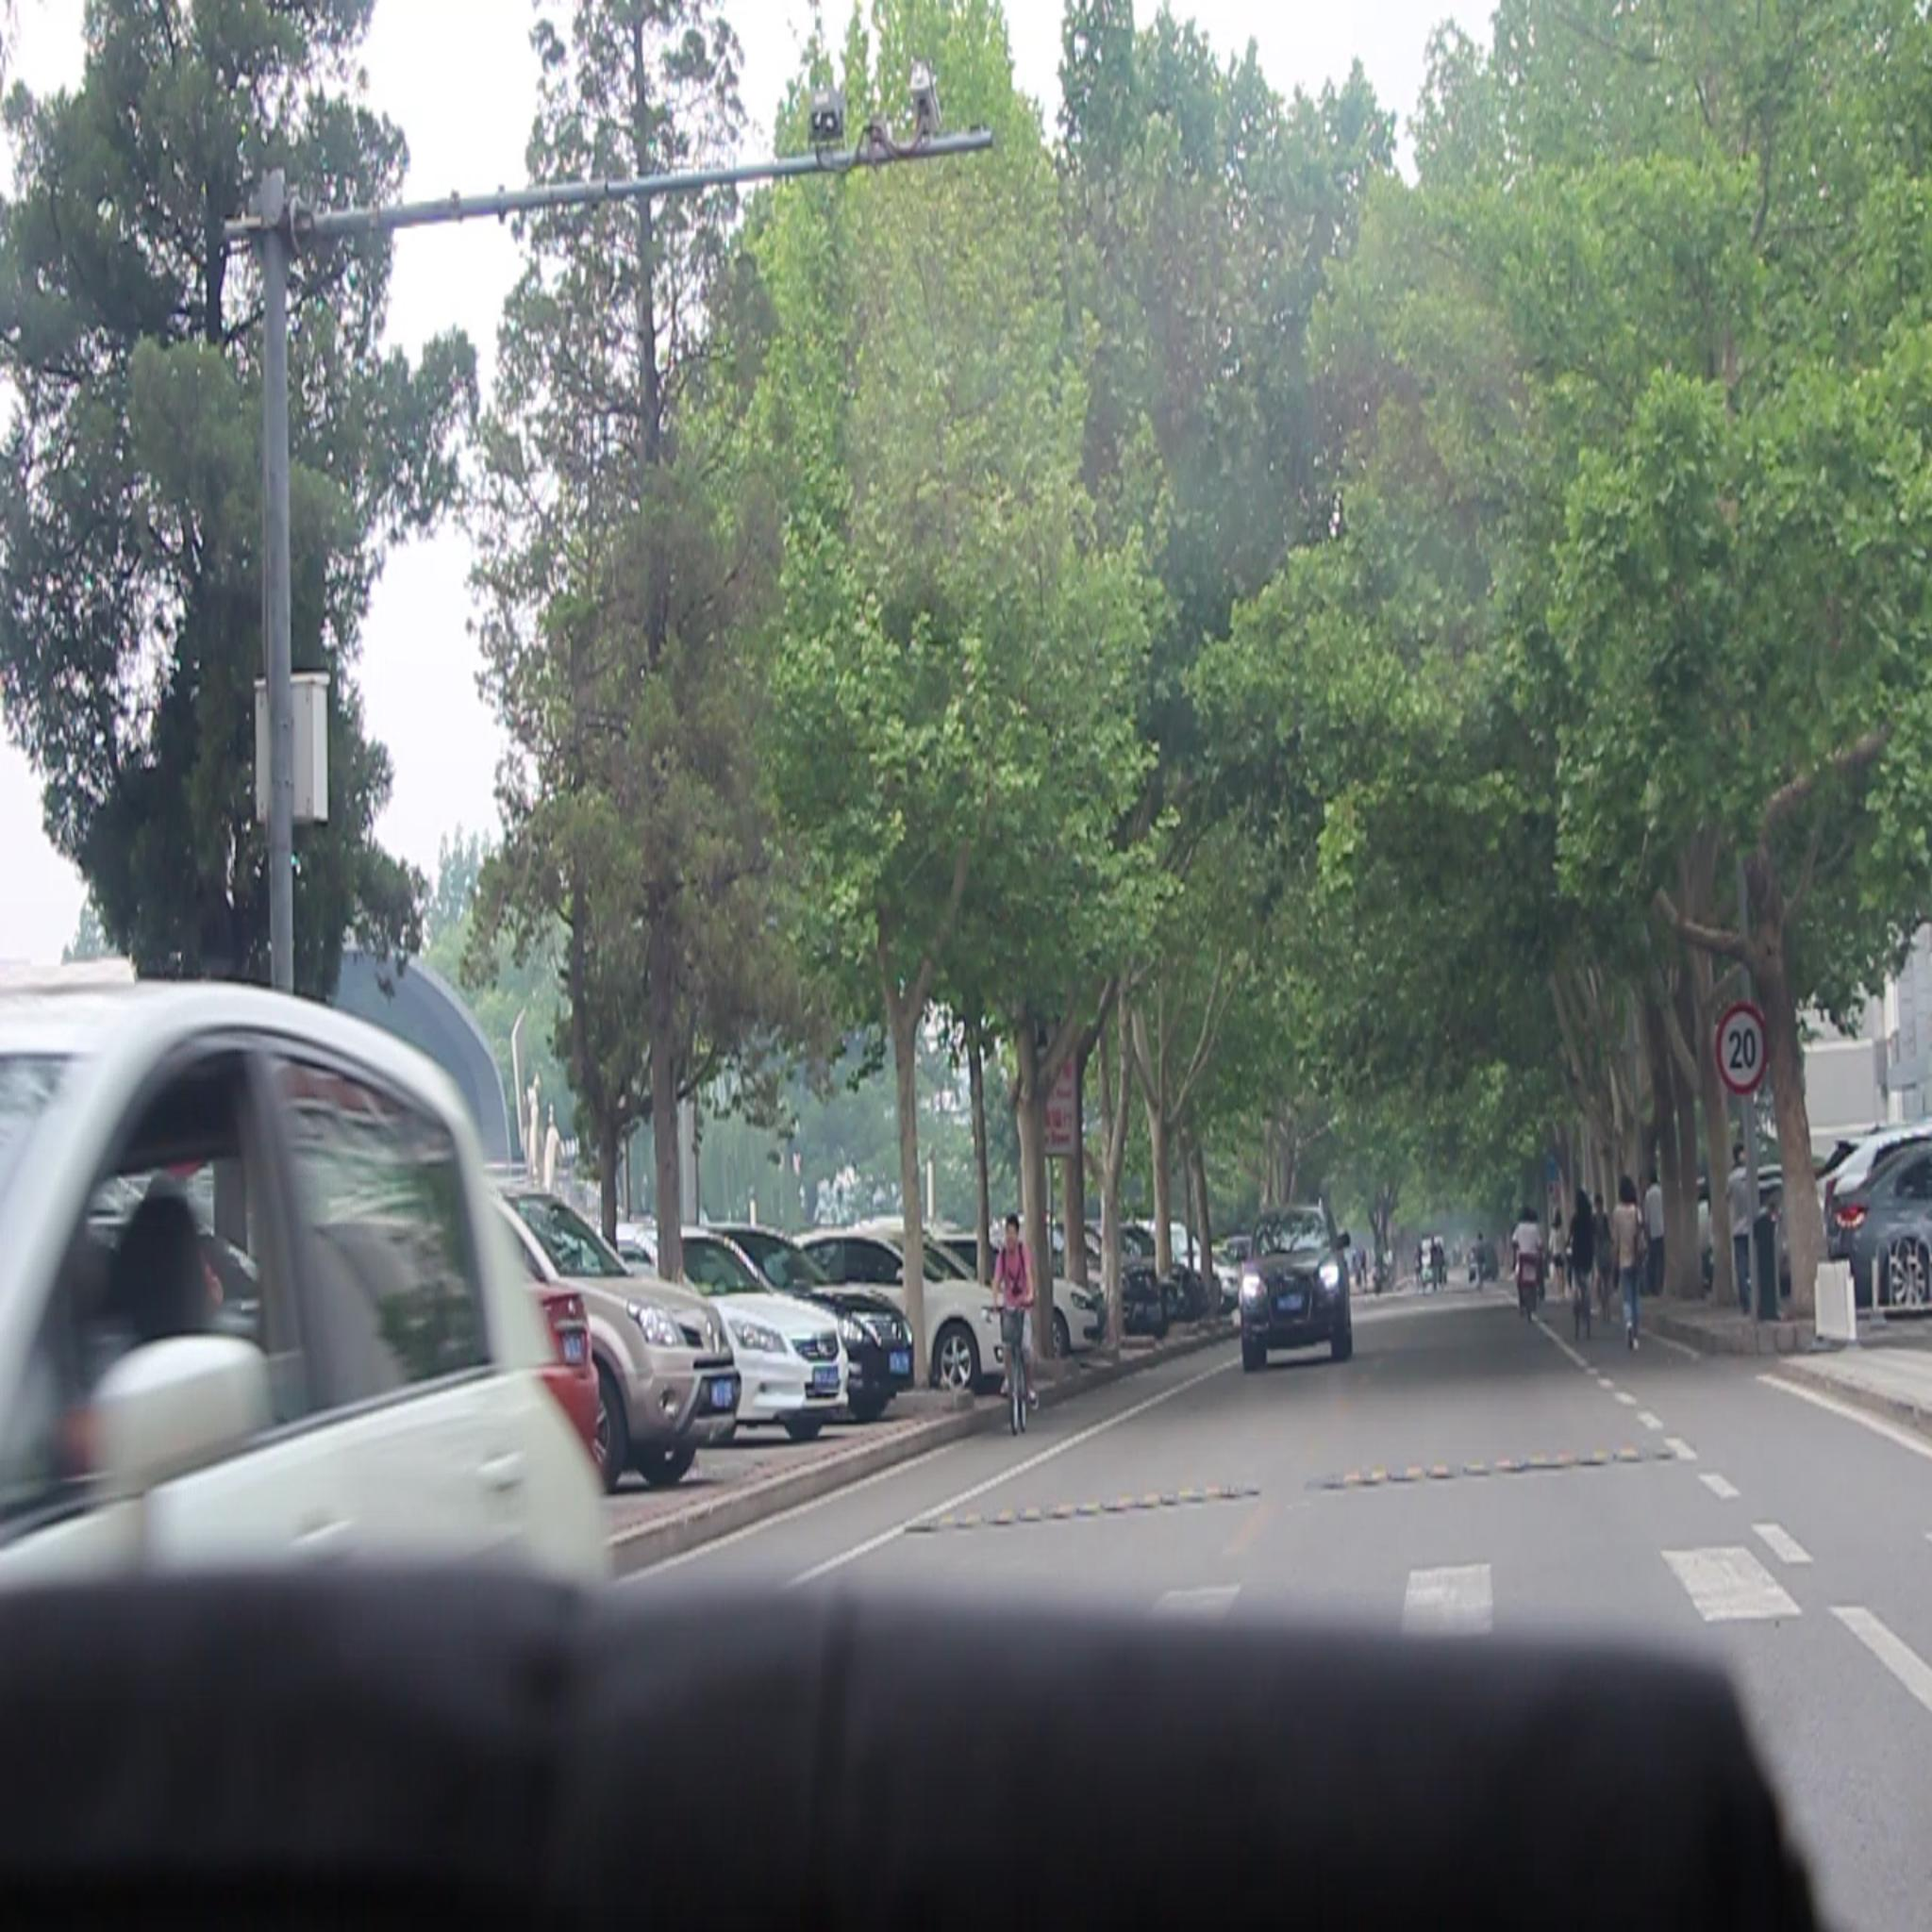pl20: (1713, 991, 1769, 1088)
